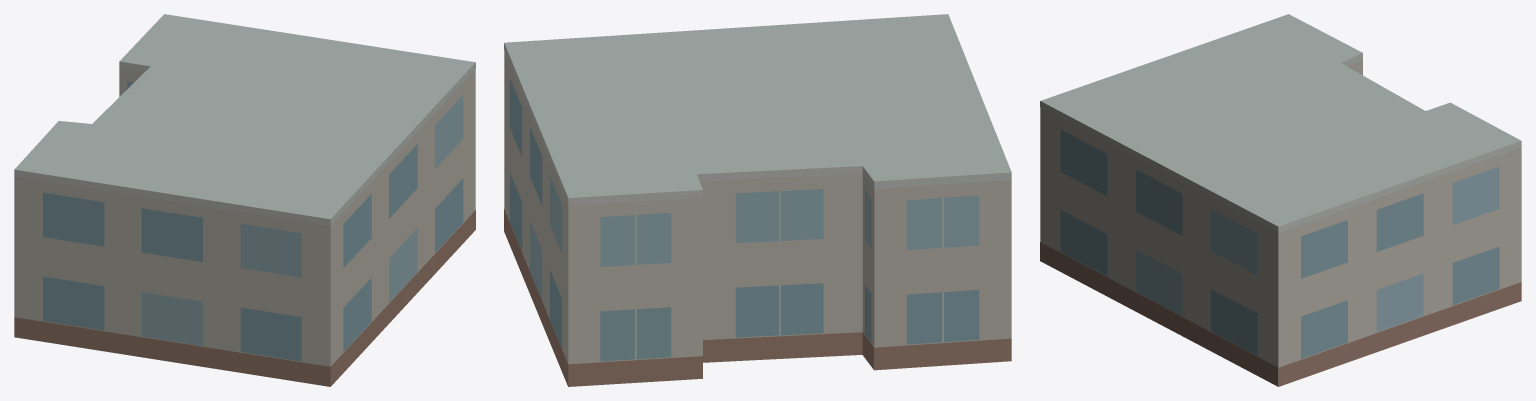
Rendered from survey-upis-32904257.glb.
3 renders of one model, left to right at view 1: azimuth 30°, elevation 25°; view 2: azimuth 150°, elevation 25°; view 3: azimuth 270°, elevation 25°, orthographic. The views are drawn at different scales.
Parts seen in each view (by area): view 1: survey-upis-32904257.tmp; view 2: survey-upis-32904257.tmp; view 3: survey-upis-32904257.tmp.
Part boxes in pixels (bbox=[...]): survey-upis-32904257.tmp: bbox=[14, 14, 475, 386]; survey-upis-32904257.tmp: bbox=[504, 14, 1011, 386]; survey-upis-32904257.tmp: bbox=[1040, 14, 1521, 386].
Bounding box in the file's own units: 17.38 × 6.1 × 16.62.
